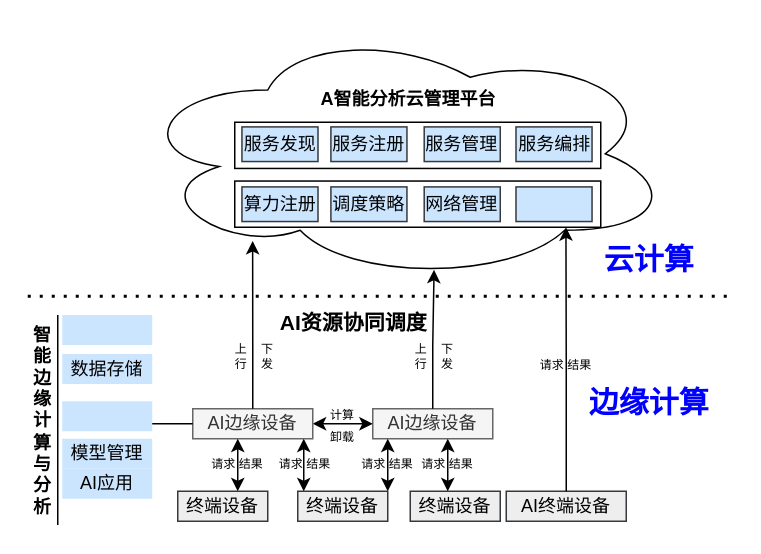
The diagram is 761 pixels wide and 554 high, and some of its shapes have lost their labels. The centre of each missing label's shape, as x and y in pixels:
"接入管理" goes at point (107, 415).
"数据处理" goes at point (107, 329).
"算力发现" goes at point (553, 203).
